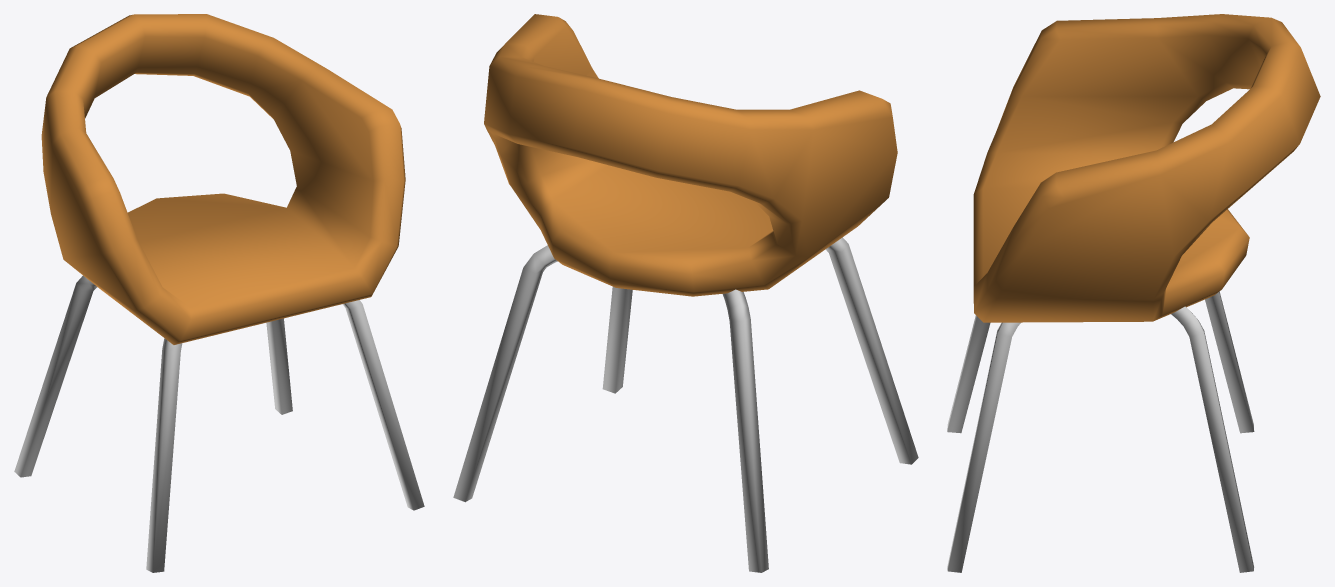
Rendered from chair_020.fbx.
3 renders of one model, left to right at view 1: azimuth 30°, elevation 25°; view 2: azimuth 150°, elevation 25°; view 3: azimuth 270°, elevation 25°, orthographic. The views are drawn at different scales.
Visible parts, largest first — view 1: chair_020; view 2: chair_020; view 3: chair_020.
Part boxes in pixels (box(x1,y1,x2,y2)): chair_020: box(14, 14, 424, 572); chair_020: box(453, 14, 918, 572); chair_020: box(947, 14, 1320, 572).
Size of the model in its own units: 92.28 by 85 by 115.
